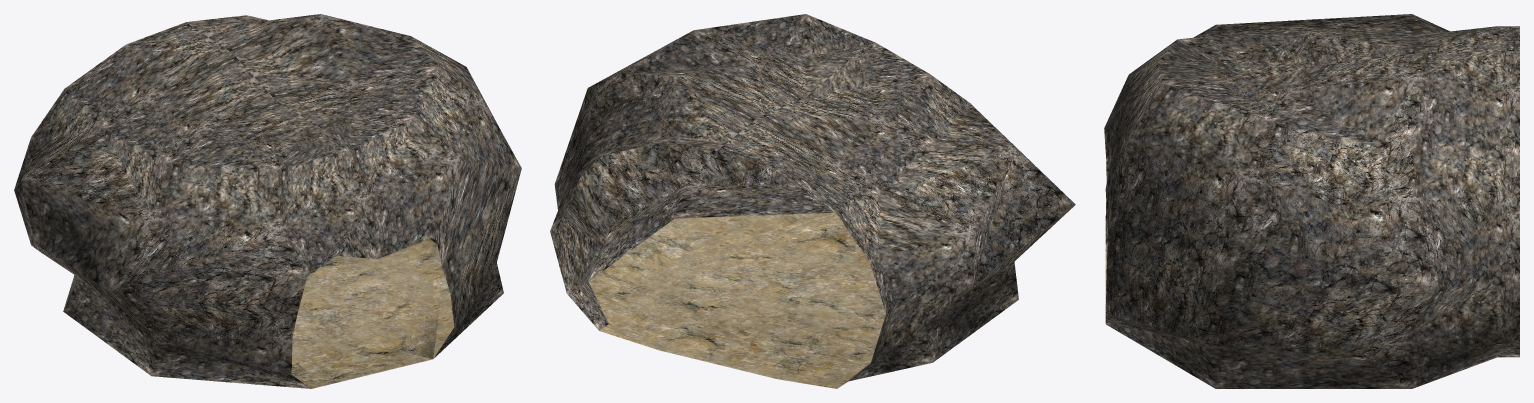
The model's file is pir_m_are_cav_deadend150_entrance.fbx.
3 views of the same model, side by side, from view 1: azimuth 30°, elevation 25°; view 2: azimuth 150°, elevation 25°; view 3: azimuth 270°, elevation 25° (orthographic). The views are drawn at different scales.
Visible parts, largest first — view 1: standardDeadEnd_wall, standardDeadEnd_floor; view 2: standardDeadEnd_wall, standardDeadEnd_floor; view 3: standardDeadEnd_wall.
Boxes of the visible parts, box(x1,y1,x2,y2) form: standardDeadEnd_wall: box(14, 14, 521, 388); standardDeadEnd_floor: box(291, 238, 454, 388); standardDeadEnd_wall: box(550, 14, 1075, 387); standardDeadEnd_floor: box(589, 212, 885, 388); standardDeadEnd_wall: box(1104, 14, 1519, 388).
Bounding box in the file's own units: 13126 × 6704 × 9403.
Materials: 2 (2 with a texture image).
